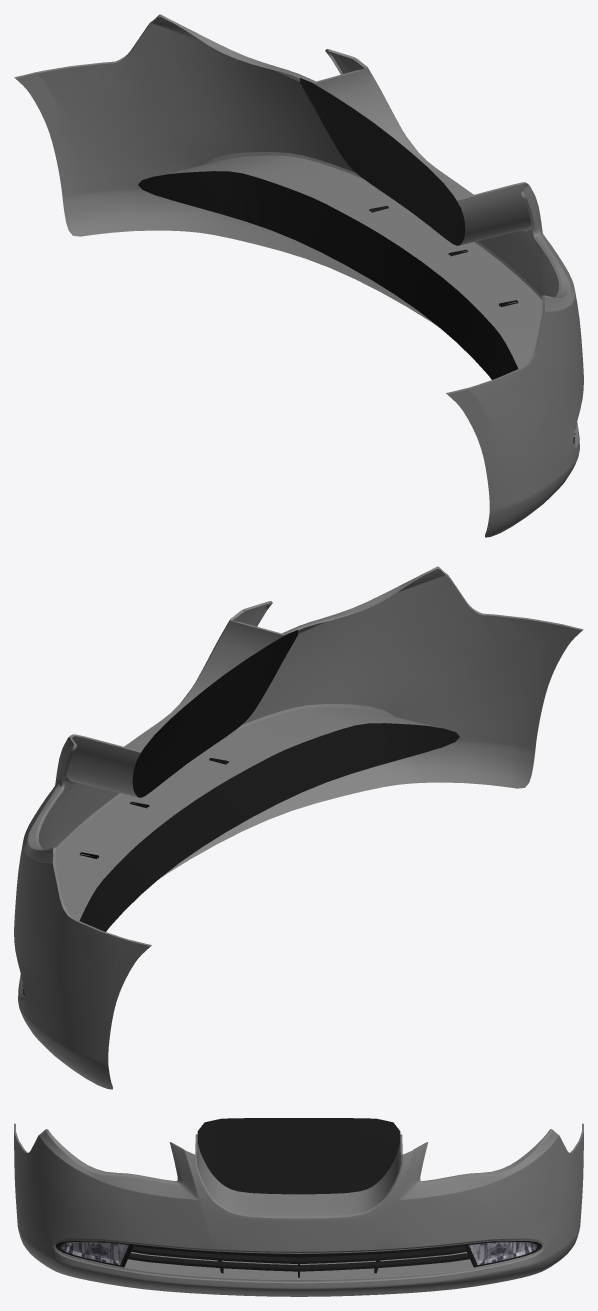
3 views of the same model, one above another, from view 1: azimuth 30°, elevation 25°; view 2: azimuth 150°, elevation 25°; view 3: azimuth 270°, elevation 25° (orthographic). The views are drawn at different scales.
Visible parts, largest first — view 1: E233_021G_C_4_DaS_E233_021G_C, E233_021G_C_E233_021G_C_5_D, E233_021G_C_4_DaS_E233_021G_C_E; view 2: E233_021G_C_4_DaS_E233_021G_C, E233_021G_C_E233_021G_C_5_D, E233_021G_C_4_DaS_E233_021G_C_E; view 3: E233_021G_C_4_DaS_E233_021G_C, E233_021G_C_E233_021G_C_5_D, E233_021G_C_E233_021G_C_3_D, E233_021G_C_4_DaS_E233_021G_C_E, E233_021G_C_E233_021G_C_1_N, E233_021G_C_E233_021G_C_2_N, E233_021G_C_E233_021G_C_6_DTaSI, E233_021G_C_E233_021G_C_7_DTaSI.
Part boxes in pixels (left/top/right/bottom): E233_021G_C_4_DaS_E233_021G_C: left=15, top=16, right=583, bottom=537; E233_021G_C_E233_021G_C_5_D: left=138, top=78, right=518, bottom=379; E233_021G_C_4_DaS_E233_021G_C_E: left=14, top=14, right=578, bottom=448; E233_021G_C_4_DaS_E233_021G_C: left=14, top=568, right=582, bottom=1089; E233_021G_C_E233_021G_C_5_D: left=79, top=630, right=459, bottom=931; E233_021G_C_4_DaS_E233_021G_C_E: left=19, top=566, right=583, bottom=1000; E233_021G_C_4_DaS_E233_021G_C: left=14, top=1129, right=583, bottom=1296; E233_021G_C_E233_021G_C_5_D: left=134, top=1118, right=463, bottom=1257; E233_021G_C_E233_021G_C_3_D: left=55, top=1241, right=542, bottom=1277; E233_021G_C_4_DaS_E233_021G_C_E: left=14, top=1123, right=583, bottom=1283; E233_021G_C_E233_021G_C_1_N: left=469, top=1242, right=536, bottom=1264; E233_021G_C_E233_021G_C_2_N: left=61, top=1242, right=128, bottom=1264; E233_021G_C_E233_021G_C_6_DTaSI: left=61, top=1242, right=128, bottom=1264; E233_021G_C_E233_021G_C_7_DTaSI: left=469, top=1242, right=536, bottom=1264.
Bounding box in the file's own units: 70.54 × 64.68 × 209.
